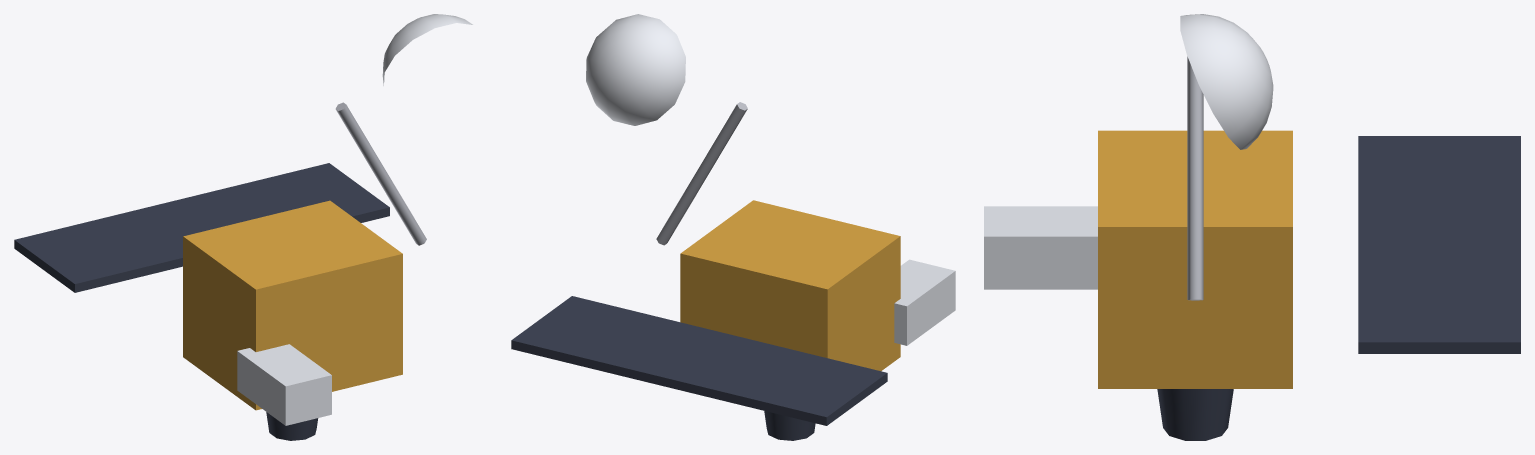
Rendered from lro.glb.
3 renders of one model, left to right at view 1: azimuth 30°, elevation 25°; view 2: azimuth 150°, elevation 25°; view 3: azimuth 270°, elevation 25°, orthographic. The views are drawn at different scales.
Parts seen in each view (by area): view 1: placeholder-lro; view 2: placeholder-lro; view 3: placeholder-lro.
Part boxes in pixels (x1,y1,x2,y2): placeholder-lro: (14,14,472,440); placeholder-lro: (511,14,955,440); placeholder-lro: (984,14,1520,440).
Size of the model in its own units: 1.68 by 1.71 by 1.65.
